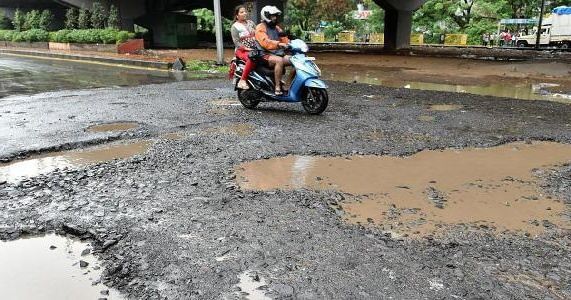pothole: (223, 135, 571, 243), (0, 222, 142, 300), (0, 133, 160, 184), (84, 117, 146, 134)
